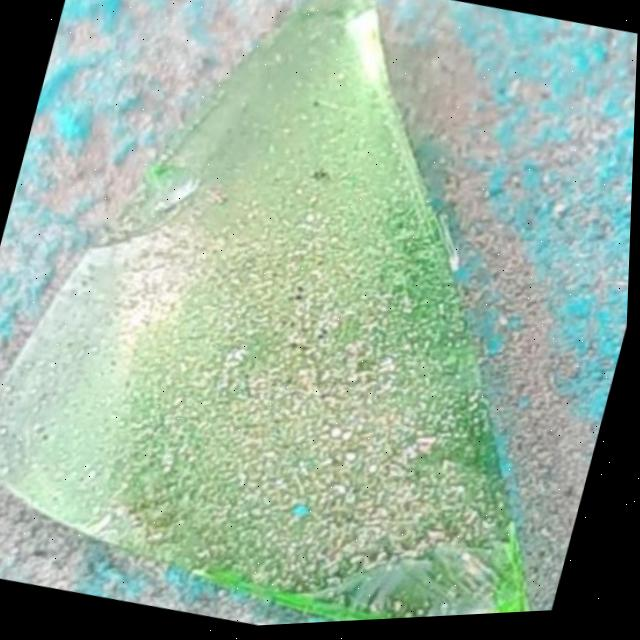Dry: (68, 118, 424, 597), (305, 230, 513, 627), (22, 189, 162, 524), (192, 13, 426, 180), (411, 418, 580, 622), (0, 283, 82, 491), (282, 0, 388, 61)
